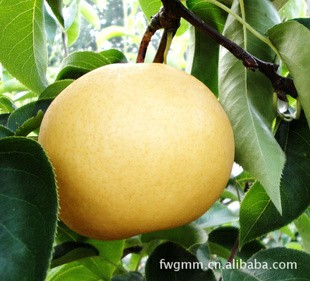pear: (39, 62, 234, 237)
